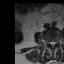CCS_normal: (51, 39, 53, 50)
LFS_normal: (55, 38, 58, 45)
LLS_normal: (53, 39, 55, 47)
RFS_stenosis: (47, 38, 49, 46)
RLS_normal: (49, 39, 51, 46)
